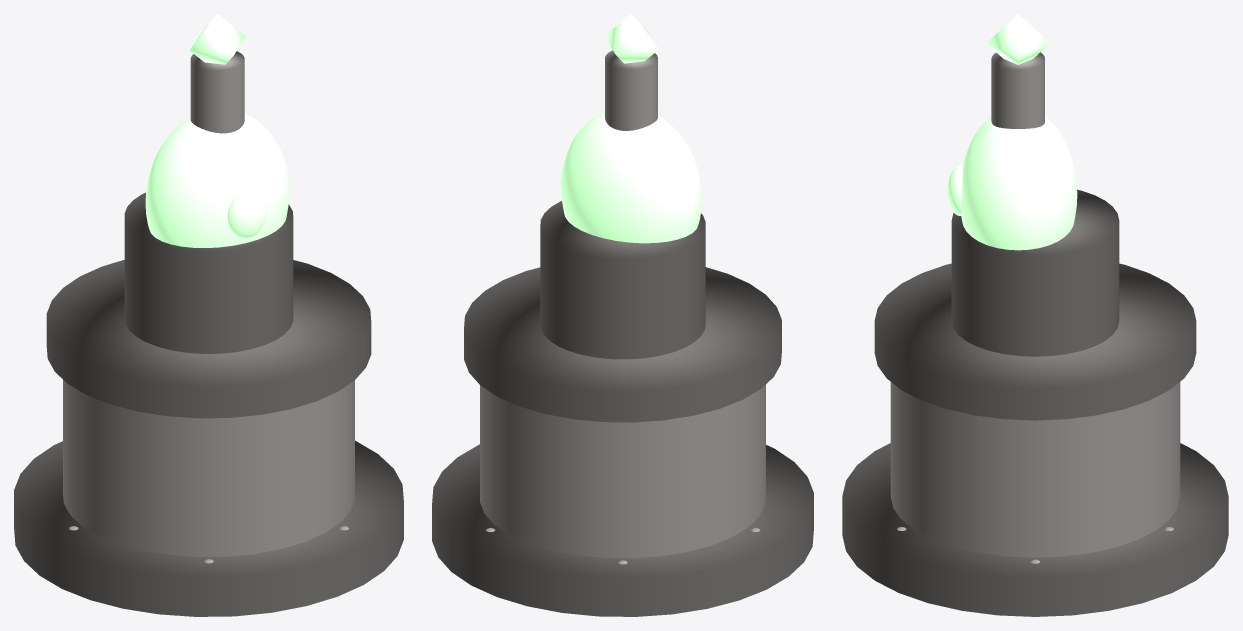
The model's file is poison_l2.glb.
3 views of the same model, side by side, from view 1: azimuth 30°, elevation 25°; view 2: azimuth 150°, elevation 25°; view 3: azimuth 270°, elevation 25° (orthographic). The views are drawn at different scales.
Visible parts, largest first — view 1: base, footing, baseCollar, shaft, vial, neck, cap, ember; view 2: base, footing, baseCollar, shaft, vial, neck, cap; view 3: base, footing, baseCollar, shaft, vial, neck, cap, ember.
Boxes of the visible parts, box(x1,y1,x2,y2) form: base: box(63, 380, 354, 556); footing: box(14, 440, 403, 616); baseCollar: box(46, 260, 371, 418); shaft: box(124, 192, 293, 353); vial: box(145, 114, 289, 247); neck: box(190, 51, 244, 133); cap: box(189, 14, 245, 64); ember: box(227, 190, 266, 238); base: box(480, 384, 765, 558); footing: box(432, 444, 813, 616); baseCollar: box(464, 267, 781, 422); shaft: box(540, 201, 705, 359); vial: box(560, 111, 702, 243); neck: box(605, 50, 657, 130); cap: box(604, 14, 658, 63); base: box(890, 382, 1180, 557); footing: box(842, 443, 1228, 616); baseCollar: box(874, 263, 1196, 420); shaft: box(951, 189, 1119, 356); vial: box(961, 116, 1077, 250); neck: box(991, 52, 1044, 128); cap: box(986, 14, 1050, 64); ember: box(947, 166, 962, 215).
Bounding box in the file's own units: 1.8 × 2.68 × 1.8.
